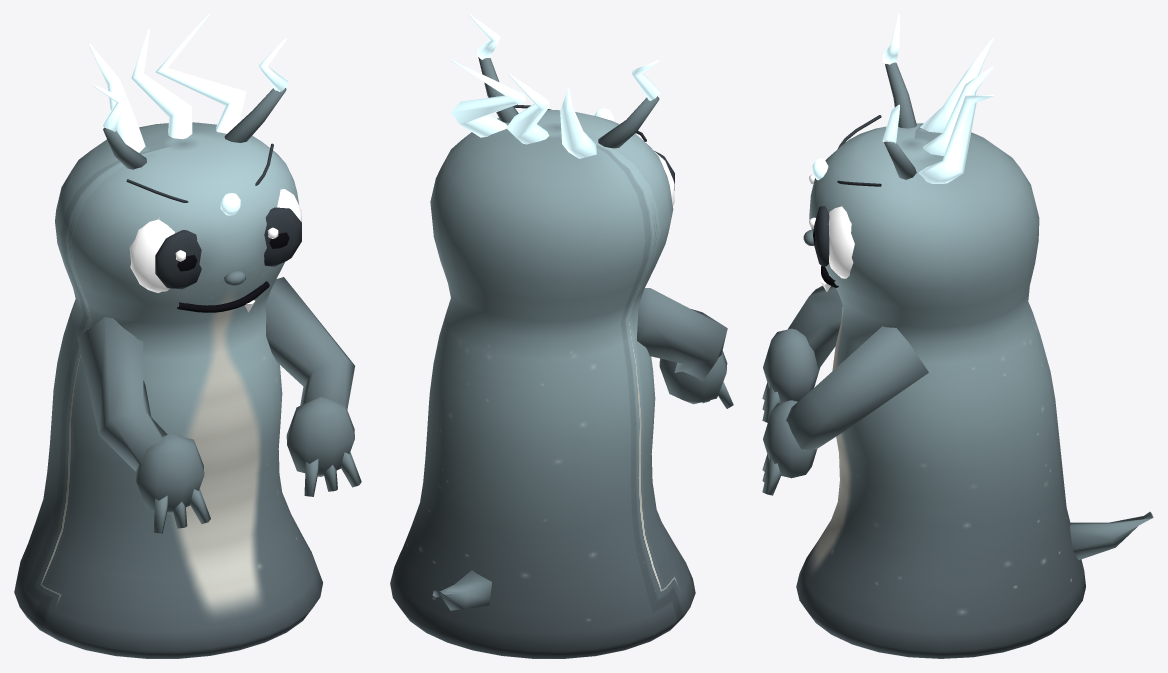
File: remolino_pixar.glb
3 renders of one model, left to right at view 1: azimuth 30°, elevation 25°; view 2: azimuth 150°, elevation 25°; view 3: azimuth 270°, elevation 25°, orthographic. The views are drawn at different scales.
Parts seen in each view (by area): view 1: remolino_cuerpo; view 2: remolino_cuerpo; view 3: remolino_cuerpo.
Part boxes in pixels (box(x1,y1,x2,y2)): remolino_cuerpo: box(14, 14, 361, 658); remolino_cuerpo: box(390, 14, 733, 658); remolino_cuerpo: box(762, 14, 1153, 658).
Size of the model in its own units: 0.2973 by 0.58 by 0.382.
5 materials, 1 textured.
